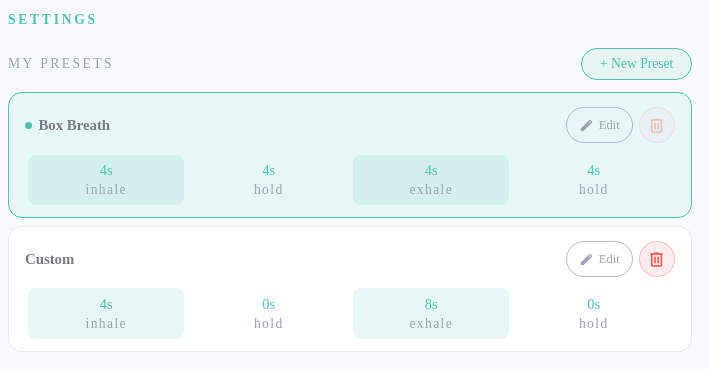
SettingsPage › first delete click shows confirm and cancel, does not delete
The image size is (709, 369).
Click the button without text in the row of "Custom" at (657, 259), box [639,241,675,277]
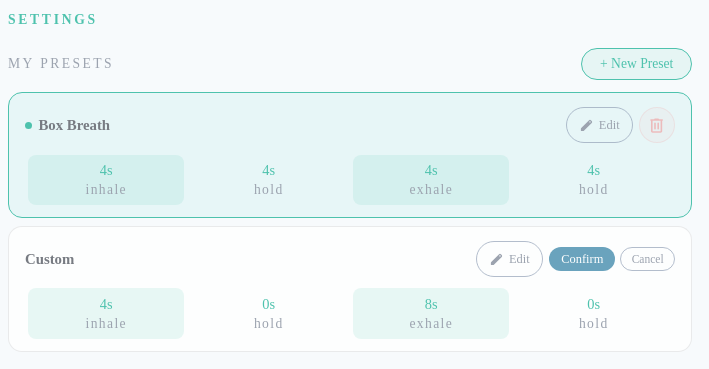
Expected: the button "Confirm" is shown, [549,247,616,271]
Expected: the button "Cancel" is shown, [620,247,675,271]
